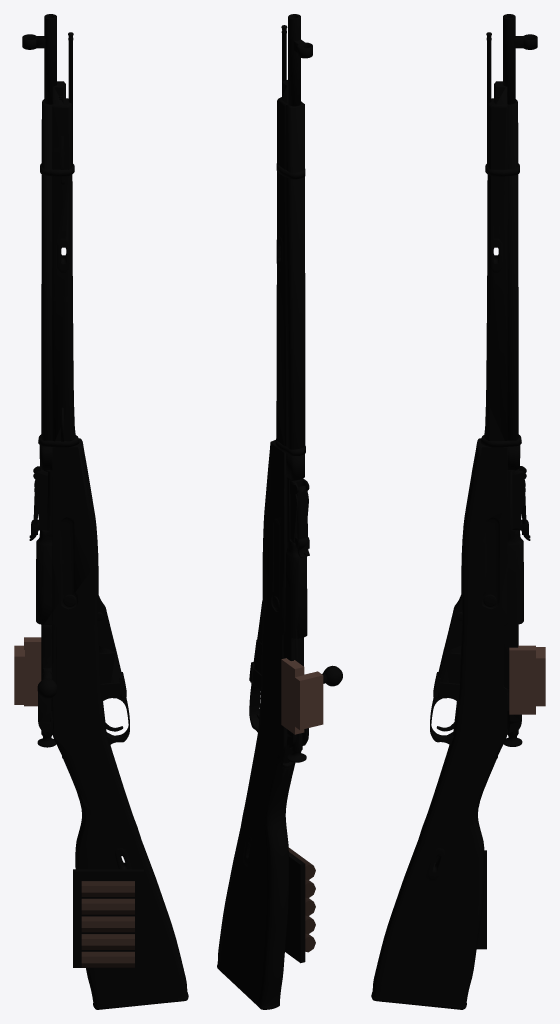
File: MosinNagant__Mount_Mosin_PU__ShellHolder_Butt.fbx
3 views of the same model, side by side, from view 1: azimuth 90°, elevation 25°; view 2: azimuth 210°, elevation 25°; view 3: azimuth 270°, elevation 25° (orthographic).
Parts seen in each view (by area): view 1: asset_MosinNagant.001; view 2: asset_MosinNagant.001; view 3: asset_MosinNagant.001.
Part boxes in pixels (bbox=[...]): asset_MosinNagant.001: bbox=[14, 14, 188, 1009]; asset_MosinNagant.001: bbox=[217, 14, 342, 1009]; asset_MosinNagant.001: bbox=[371, 14, 545, 1009].
Size of the model in its own units: 0.0448 by 0.738 by 0.1179.
